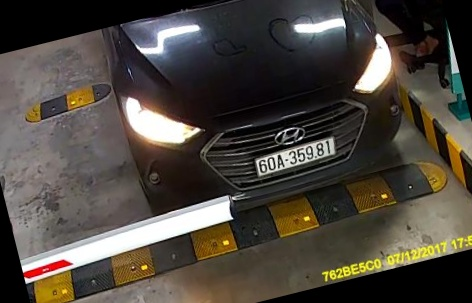plate: (241, 128, 342, 180)
